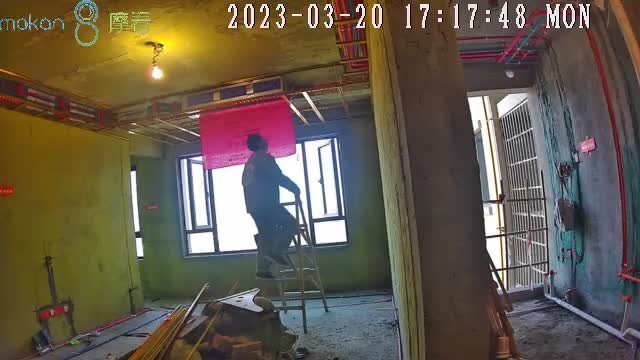people: (241, 131, 299, 278)
window: (175, 133, 349, 256), (471, 95, 555, 290)
